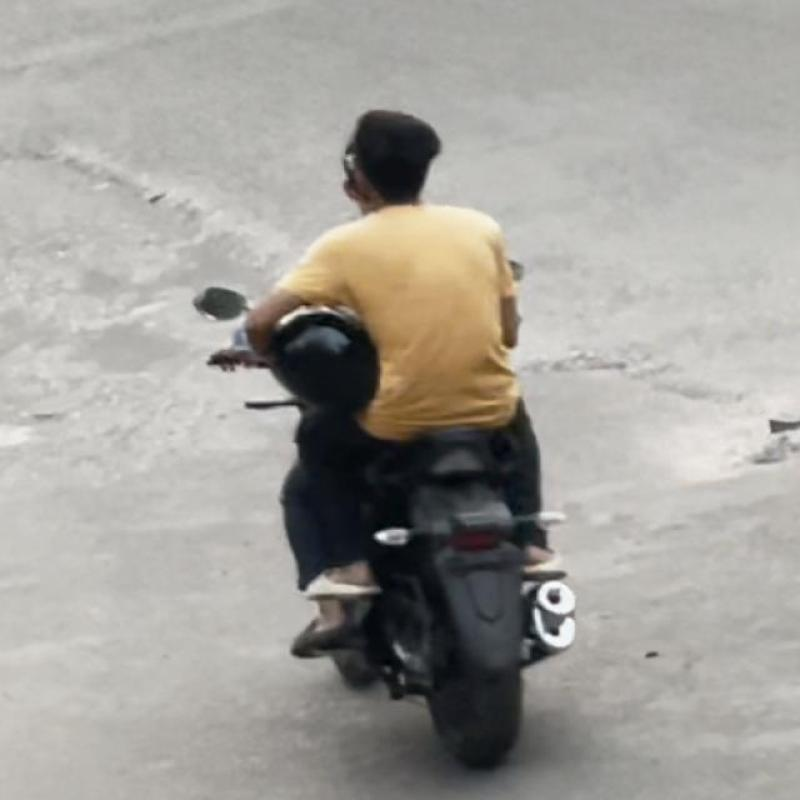nohelmet: (322, 106, 446, 210)
